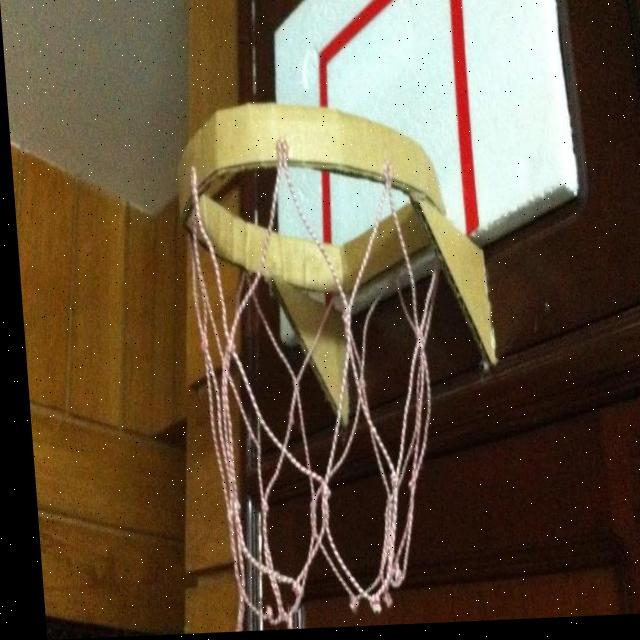hoop: (174, 98, 477, 633)
